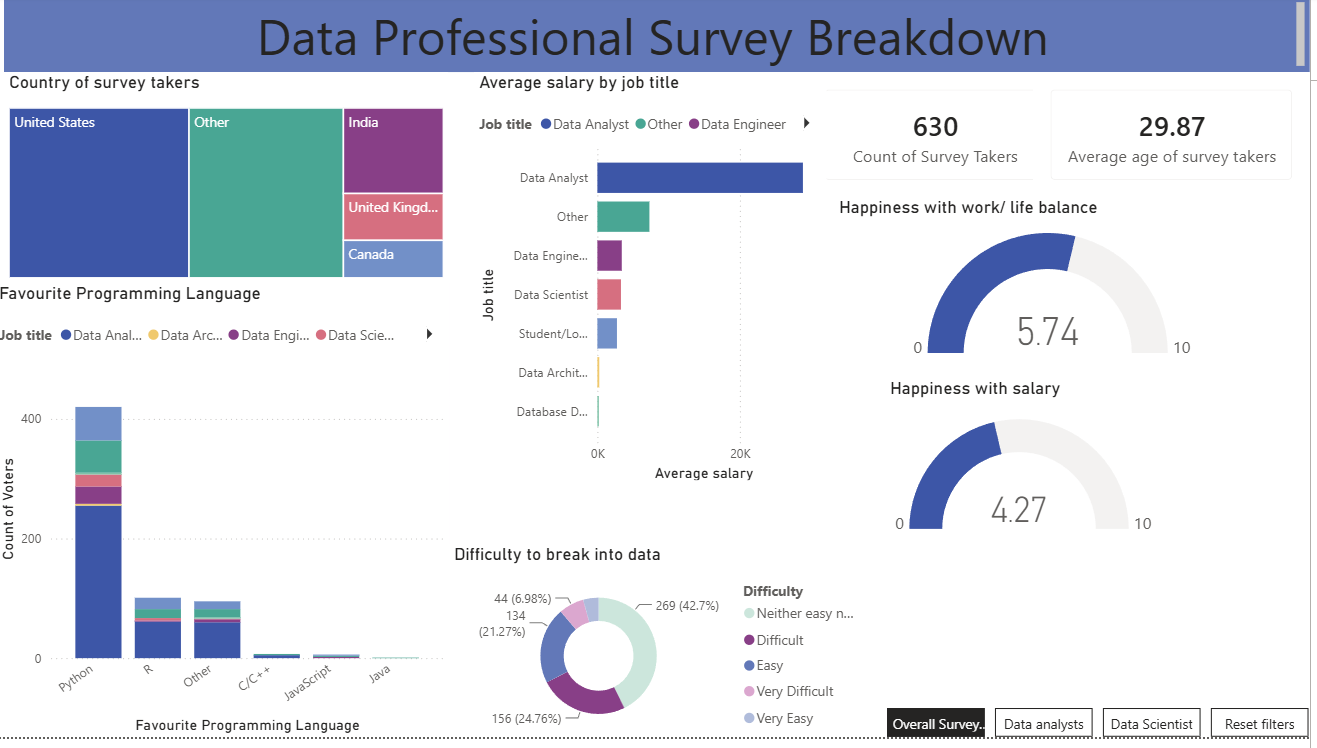

The page's visual inventory and layout, read from the dashboard file:
{"tool":"powerbi","page":{"name":"Page 1","canvas":[1280,720],"ordinal":0},"visuals":[{"type":"textbox","box":[9.7,0,1270.4,72.6],"z":0},{"type":"cardVisual","fields":{"Data":["CountNonNull(Data Professional Survey.Unique ID)"]},"box":[791.1,72.6,248.9,122.3],"z":1},{"type":"cardVisual","fields":{"Data":["Avg(Data Professional Survey.Q10 - Current Age)"]},"box":[1010.9,72.6,269.3,122.3],"z":2},{"type":"barChart","title":"Average salary by job title","fields":{"Category":["Data Professional Survey.Q1 - Which Title Best Fits your Current Role?.1"],"Series":["Data Professional Survey.Q1 - Which Title Best Fits your Current Role?.1"],"Y":["Sum(Data Professional Survey.Average salary)"]},"box":[466.9,72.6,342.9,402.2],"z":3},{"type":"columnChart","title":"Favourite Programming Language","fields":{"Category":["Data Professional Survey.Q5 - Favorite Programming Language.1"],"Series":["Data Professional Survey.Q1 - Which Title Best Fits your Current Role?.1"],"Y":["CountNonNull(Data Professional Survey.Unique ID)"]},"box":[0,278.2,442.6,442.6],"z":4},{"type":"treemap","title":"Country of survey takers","fields":{"Group":["Data Professional Survey.Q11 - Which Country do you live in?.1"],"Values":["CountNonNull(Data Professional Survey.Q11 - Which Country do you live in?.1)"]},"box":[9.7,72.6,432.3,205.5],"z":5},{"type":"gauge","title":"Happiness with work/ life balance","fields":{"MaxValue":["Max(Data Professional Survey.Q6 - How Happy are you in your Current Position with the following? (Work/Life Balance))1"],"MinValue":["Min(Data Professional Survey.Q6 - How Happy are you in your Current Position with the following? (Work/Life Balance))"],"Y":["Avg(Data Professional Survey.Q6 - How Happy are you in your Current Position with the following? (Work/Life Balance))"]},"box":[816.8,194.9,424.4,162.1],"z":6},{"type":"gauge","title":"Happiness with salary","fields":{"MaxValue":["Max(Data Professional Survey.Q6 - How Happy are you in your Current Position with the following? (Salary))"],"MinValue":["Min(Data Professional Survey.Q6 - How Happy are you in your Current Position with the following? (Salary))"],"Y":["Avg(Data Professional Survey.Q6 - How Happy are you in your Current Position with the following? (Salary))"]},"box":[866.4,370.3,269.3,162.1],"z":7},{"type":"donutChart","title":"Difficulty to break into data","fields":{"Category":["Data Professional Survey.Q7 - How difficult was it for you to break into Data?"],"Y":["CountNonNull(Data Professional Survey.Q7 - How difficult was it for you to break into Data?)"]},"box":[442.1,532.4,412,187.8],"z":8},{"type":"actionButton","box":[0,0,100,40],"z":9},{"type":"bookmarkNavigator","box":[868.4,691.3,411.6,28.2],"z":10}]}

Visuals, with their boxes in screenshot pixels (x1, y1, x2, y2), scaled from the page's 1280x720 canvas onto the 1317x748 screenshot:
textbox: box=[10, 0, 1316, 75]
cardVisual - CountNonNull(Data Professional Survey.Unique ID): box=[814, 75, 1070, 202]
cardVisual - Avg(Data Professional Survey.Q10 - Current Age): box=[1040, 75, 1316, 202]
"Average salary by job title" barChart: box=[480, 75, 833, 493]
"Favourite Programming Language" columnChart: box=[0, 289, 455, 747]
"Country of survey takers" treemap: box=[10, 75, 455, 289]
"Happiness with work/ life balance" gauge: box=[840, 202, 1277, 371]
"Happiness with salary" gauge: box=[891, 385, 1169, 553]
"Difficulty to break into data" donutChart: box=[455, 553, 879, 747]
actionButton: box=[0, 0, 103, 42]
bookmarkNavigator: box=[894, 718, 1316, 747]
